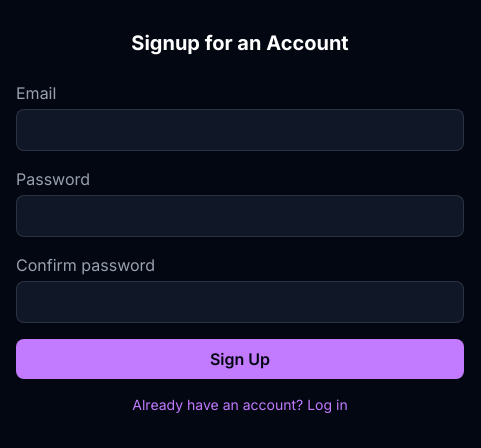
it: SignupPage › displays a friendly error when Firebase auth fails
The width and height of the screenshot is (481, 448).
In the field labelled "Email": coordinates (240, 130) [16,109,464,151], type "taken@example.com"
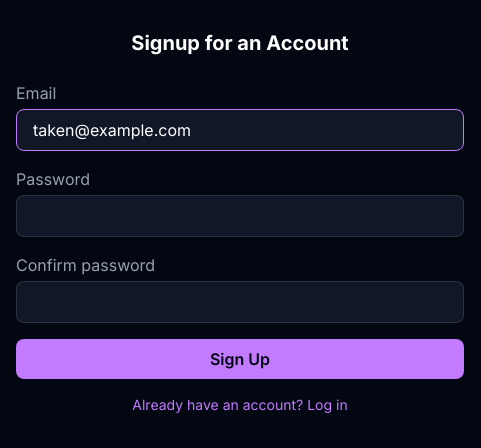
In the password field labelled "Password": coordinates (240, 216) [16,195,464,237], type "password123"
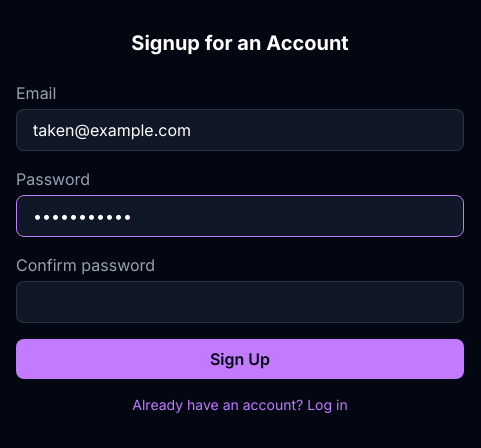
In the password field labelled "Confirm password": coordinates (240, 302) [16,281,464,323], type "password123"
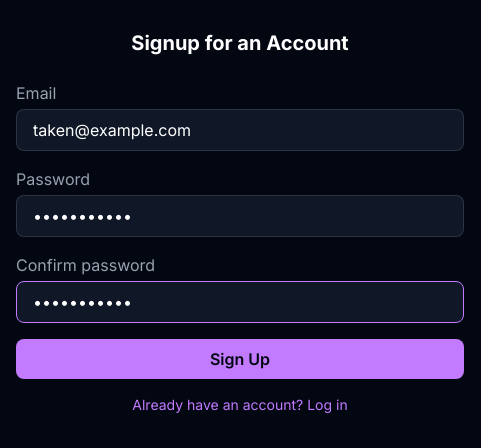
Click the button "Sign Up": coordinates (240, 359) [16,339,464,379]
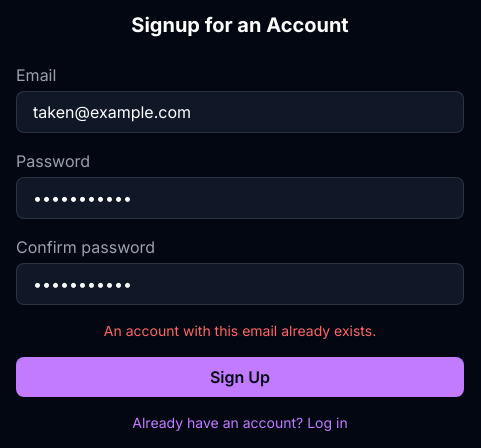
Expected: the text "An account with this email already exists." is shown, [104,322,376,339]
